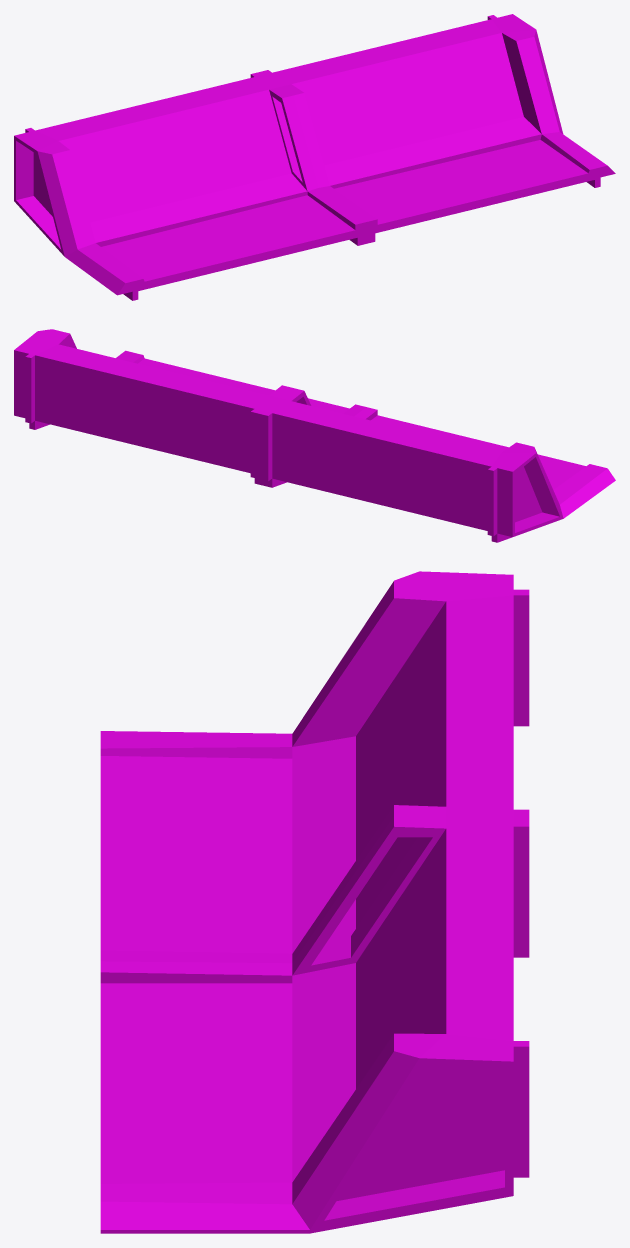
Rendered from Mdl_Vagon_piso_lateral.fbx.
3 renders of one model, top to bottom at view 1: azimuth 30°, elevation 25°; view 2: azimuth 150°, elevation 25°; view 3: azimuth 270°, elevation 25°, orthographic. The views are drawn at different scales.
Parts seen in each view (by area): view 1: Mdl_Vagon_piso_lateral; view 2: Mdl_Vagon_piso_lateral; view 3: Mdl_Vagon_piso_lateral.
Boxes of the visible parts, x1=… form: Mdl_Vagon_piso_lateral: x1=14, y1=14, x2=615, y2=300; Mdl_Vagon_piso_lateral: x1=14, y1=329, x2=615, y2=542; Mdl_Vagon_piso_lateral: x1=100, y1=571, x2=529, y2=1233.
Size of the model in its own units: 59.53 by 10.85 by 22.14.
